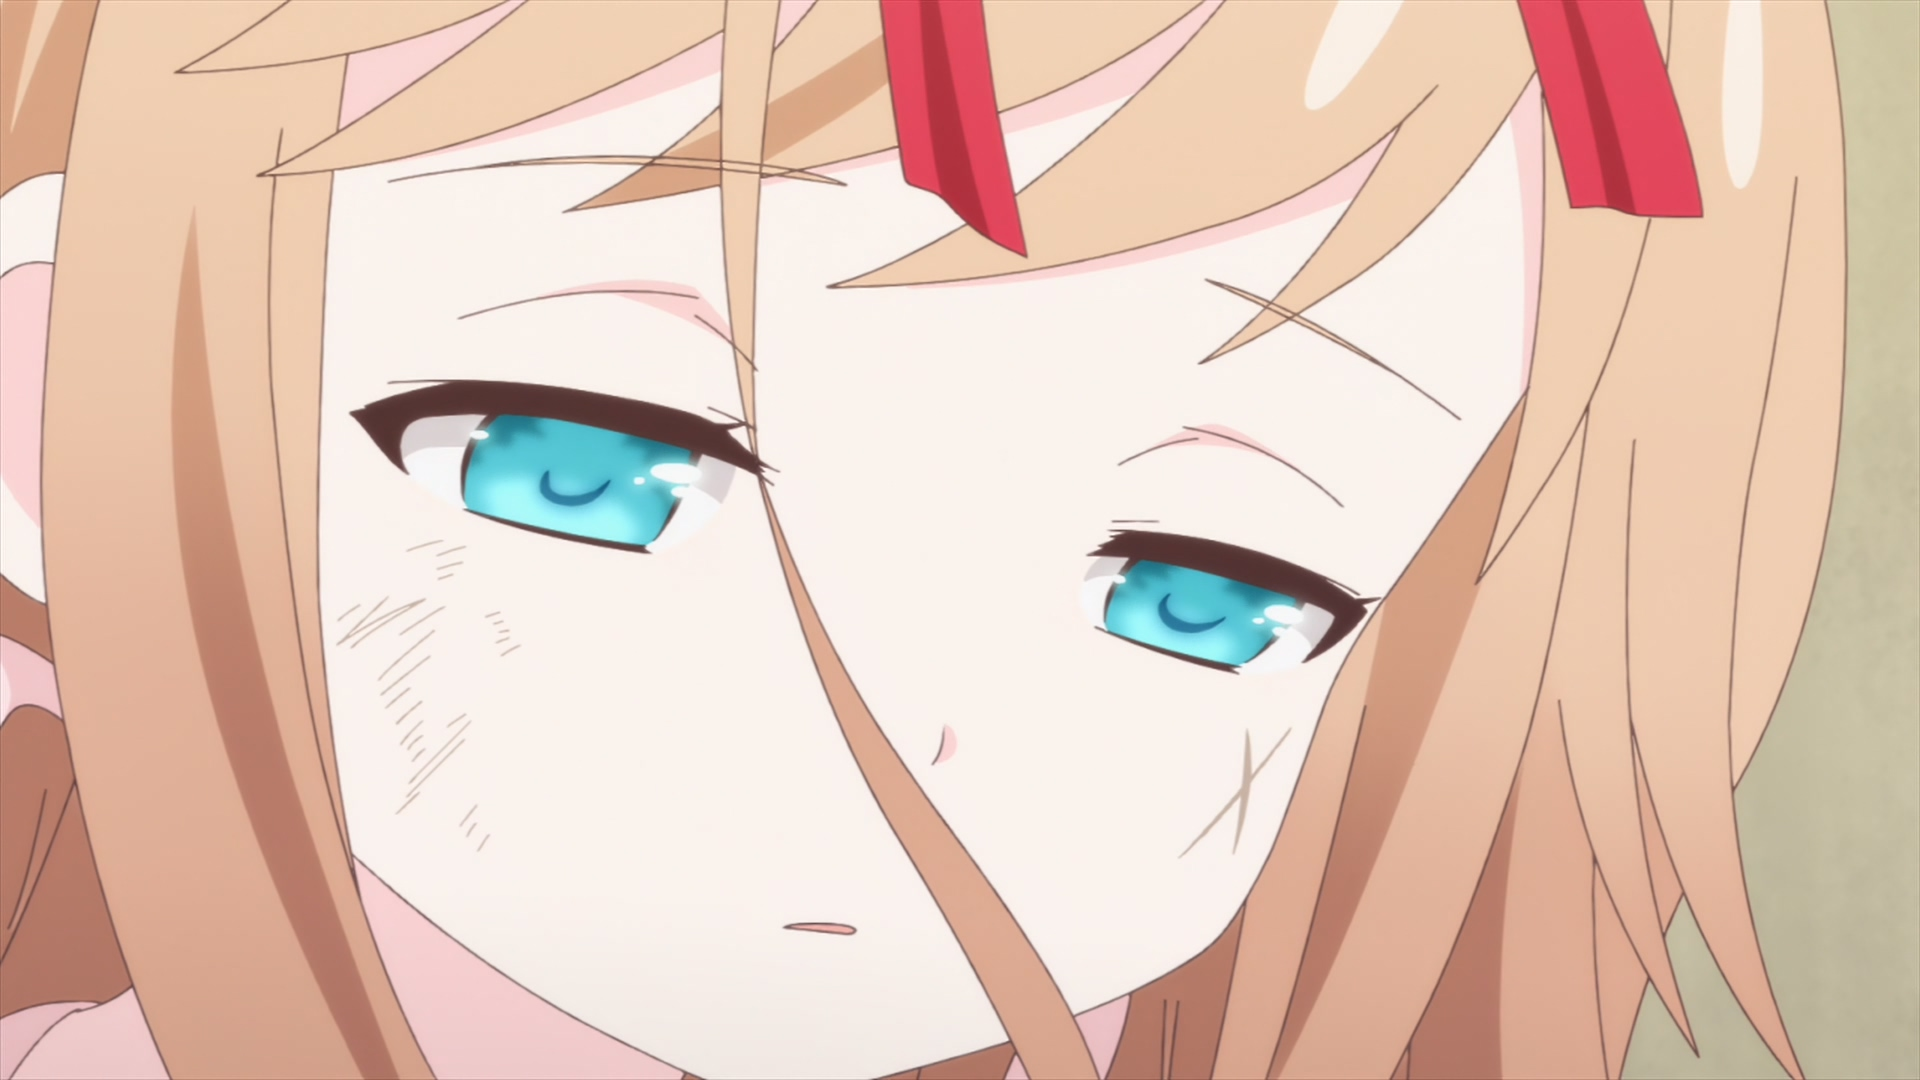其他: (1, 1, 1846, 1080)
